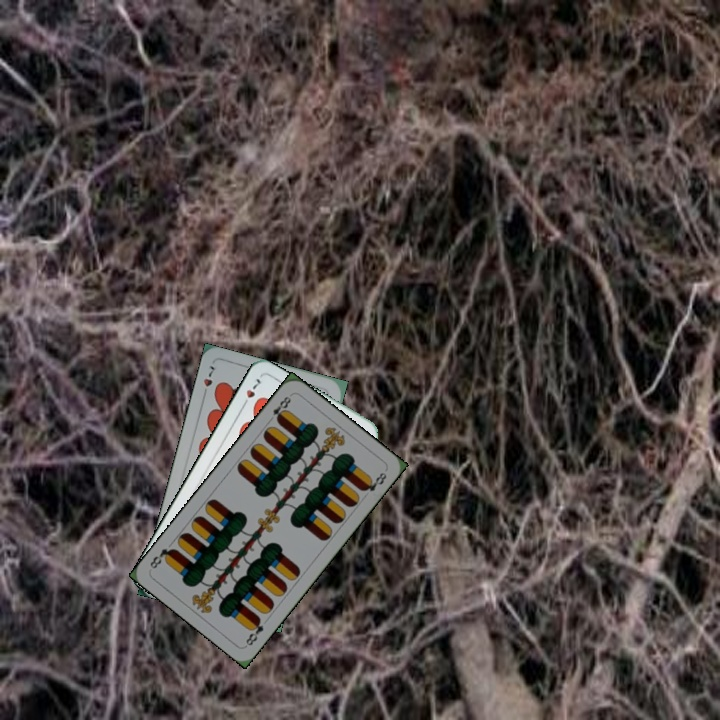E8: (264, 392, 294, 425), (242, 614, 266, 648)
H7: (238, 374, 264, 410), (199, 362, 217, 400)
